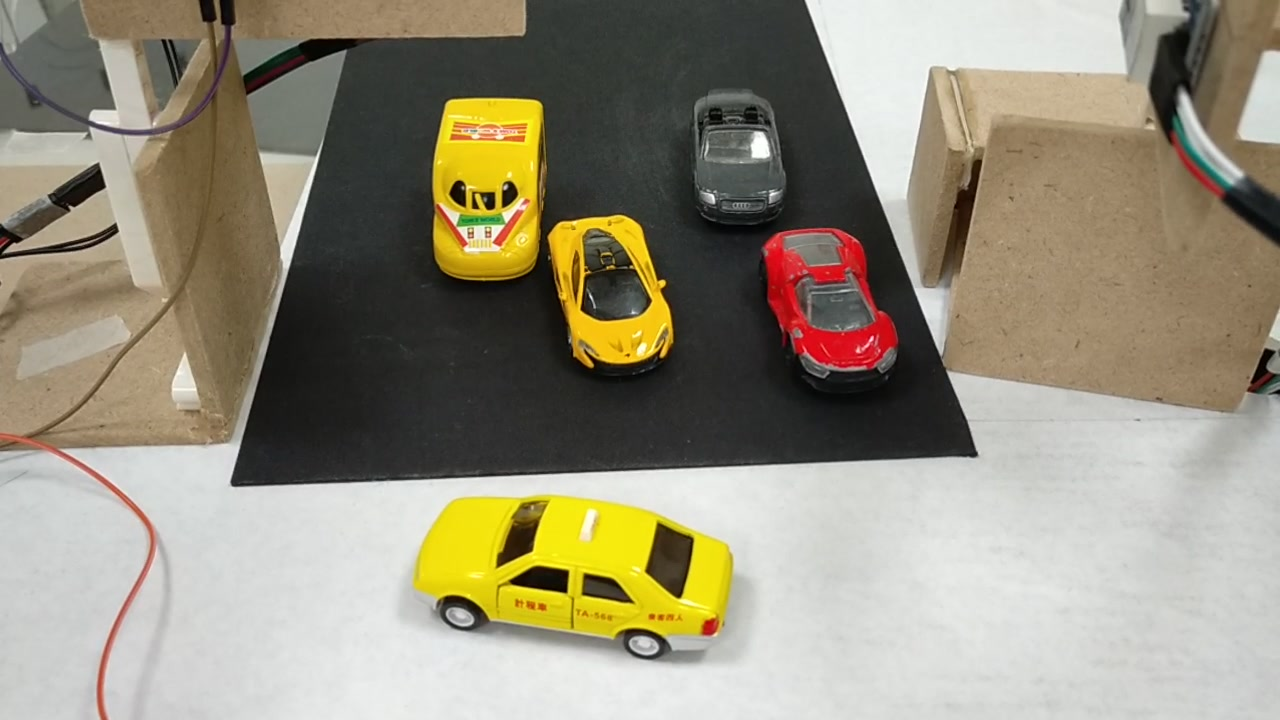car: (408, 497, 735, 667), (765, 221, 903, 394), (545, 224, 675, 382), (688, 90, 791, 224)
